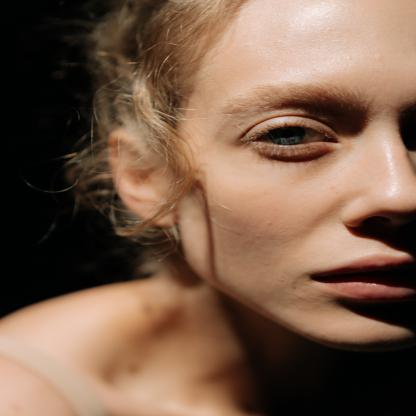Eye: (231, 111, 351, 165)
Mouth: (300, 250, 416, 301)
Nose: (341, 134, 416, 228)
